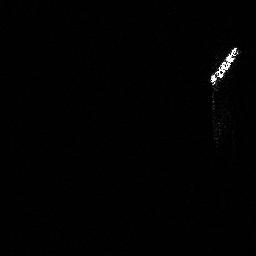ship: (206, 44, 241, 88)
